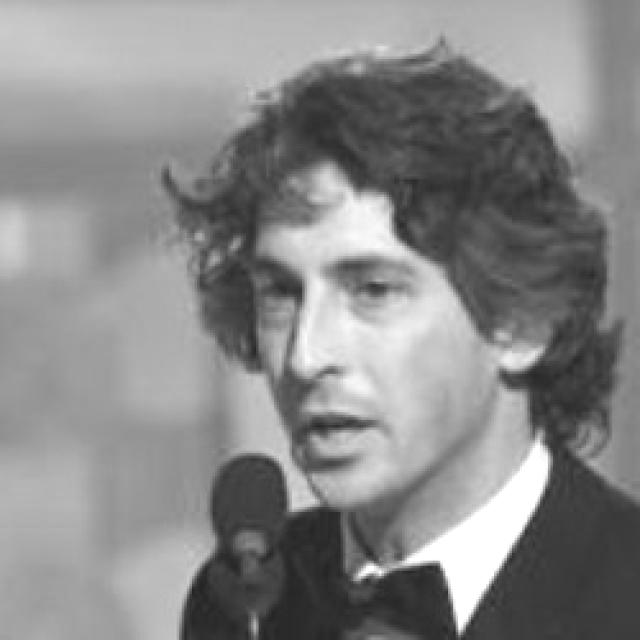real: (234, 92, 572, 530), (250, 264, 427, 324)
